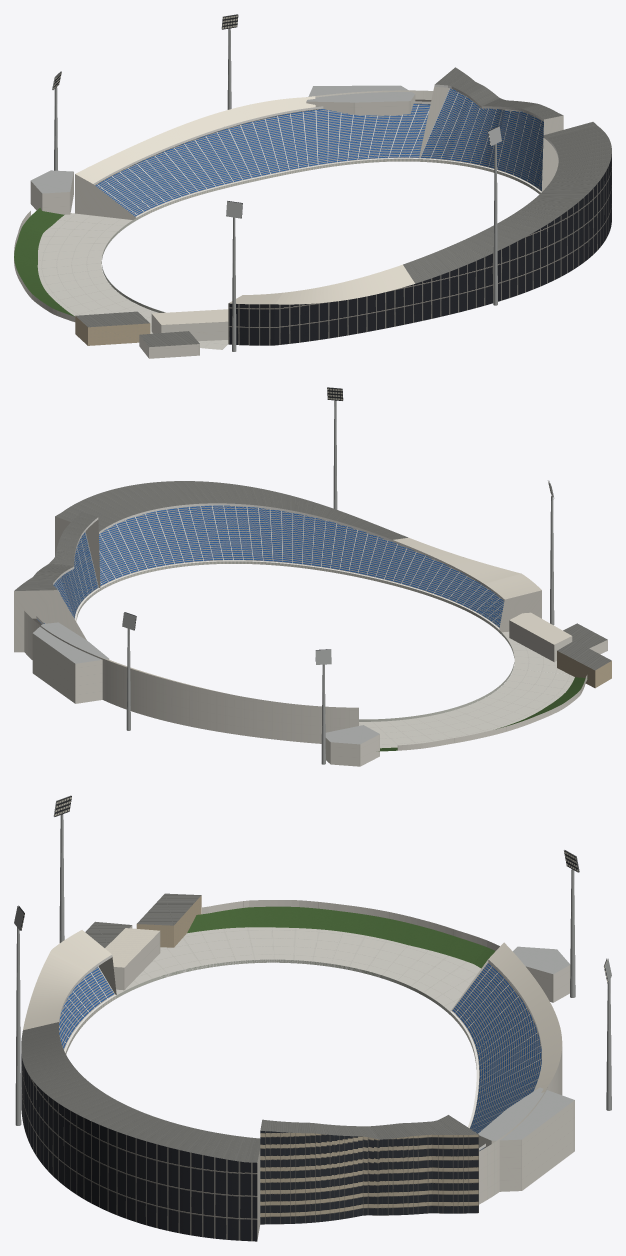
File: subiaco_B_nofield.glb
The picture shows the model from 3 angles, top to bottom: view 1: azimuth 30°, elevation 25°; view 2: azimuth 150°, elevation 25°; view 3: azimuth 270°, elevation 25°; orthographic projection. The views are drawn at different scales.
Parts seen in each view (by area): view 1: subiacoB; view 2: subiacoB; view 3: subiacoB.
Boxes of the visible parts, x1,y1,x2,y2 form: subiacoB: (14,14,611,358); subiacoB: (14,387,611,766); subiacoB: (14,795,611,1241).
Bounding box in the file's own units: 245 × 75.3 × 190.
Materials: 14 (14 with a texture image).
